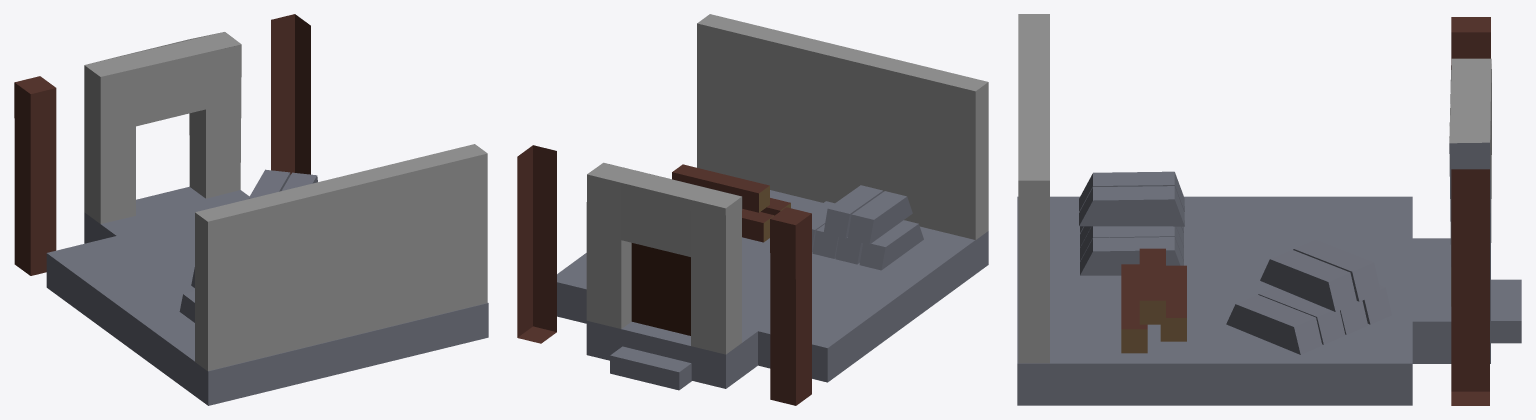
The model's file is house2.fbx.
3 views of the same model, side by side, from view 1: azimuth 30°, elevation 25°; view 2: azimuth 150°, elevation 25°; view 3: azimuth 270°, elevation 25° (orthographic). The views are drawn at different scales.
Visible parts, largest first — view 1: House2; view 2: House2; view 3: House2.
Boxes of the visible parts, <box> form: House2: <box>14,14,488,405</box>; House2: <box>517,14,988,405</box>; House2: <box>1017,14,1521,405</box>.
Size of the model in its own units: 591 by 372 by 753.
